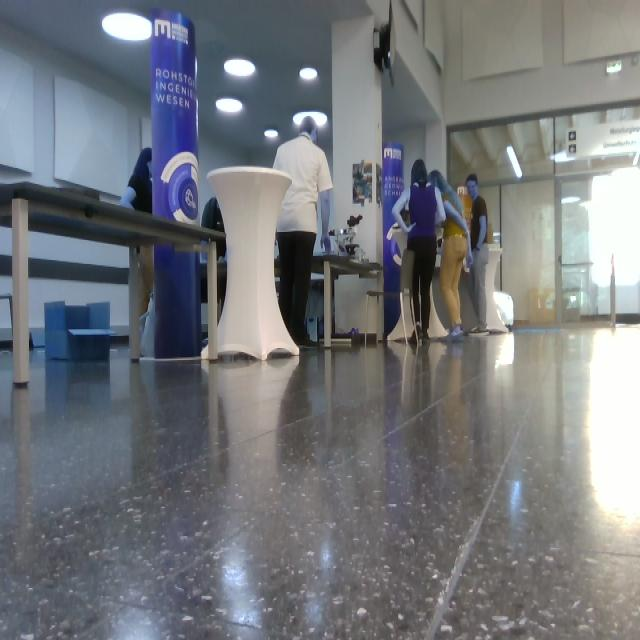light bulb: (104, 13, 152, 41), (294, 112, 328, 128), (225, 60, 256, 77), (508, 146, 523, 178), (300, 68, 318, 81), (265, 129, 279, 138)
person: (273, 116, 334, 348), (391, 158, 447, 345), (428, 169, 473, 341), (466, 173, 489, 334)
tiled floor: (1, 329, 640, 640)
